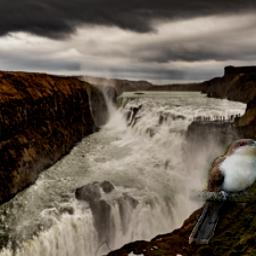Cuckoo: (188, 140, 256, 245)
